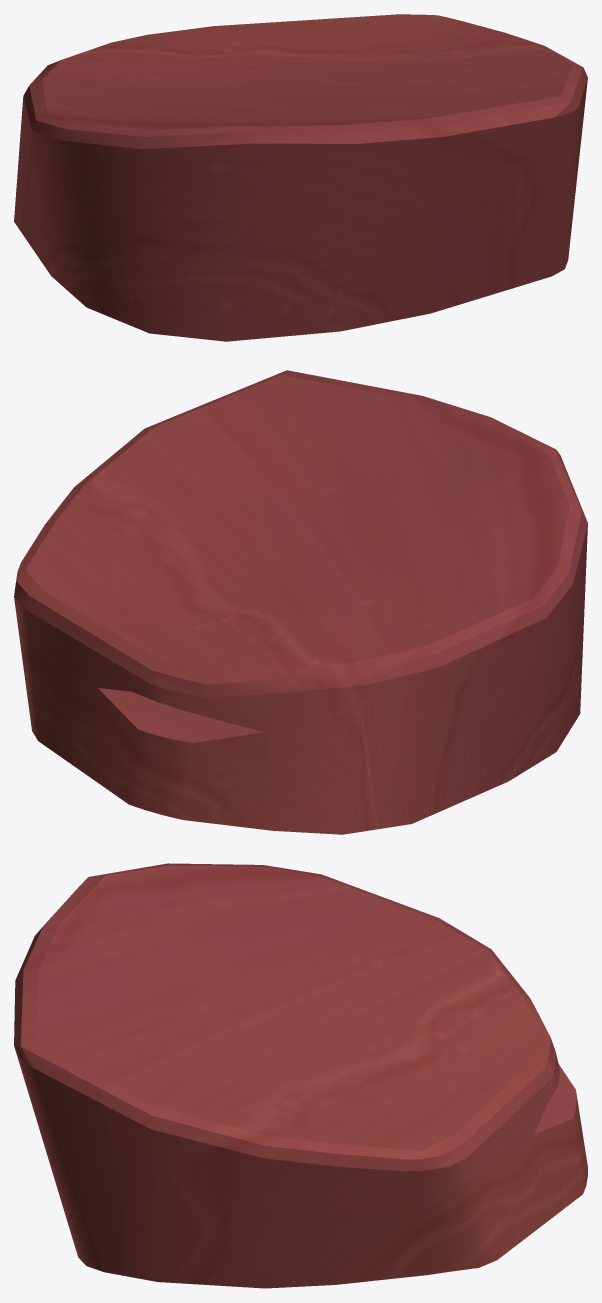
Rendered from SM_LStone_01.fbx.
The picture shows the model from 3 angles, top to bottom: view 1: azimuth 30°, elevation 25°; view 2: azimuth 150°, elevation 25°; view 3: azimuth 270°, elevation 25°; orthographic projection. The views are drawn at different scales.
Parts seen in each view (by area): view 1: SM_LStone_01; view 2: SM_LStone_01; view 3: SM_LStone_01.
Part boxes in pixels (x1,y1,x2,y2): SM_LStone_01: [14, 14, 587, 341]; SM_LStone_01: [14, 370, 587, 834]; SM_LStone_01: [14, 863, 587, 1288].
Size of the model in its own units: 1614 by 681 by 1566.
